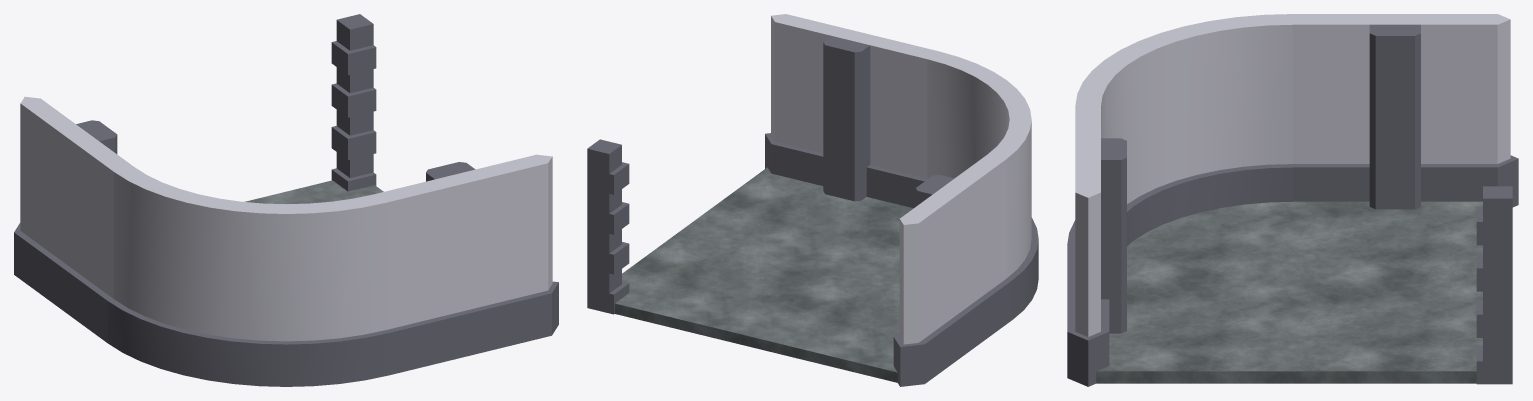
Rendered from corner_03.fbx.
3 views of the same model, side by side, from view 1: azimuth 30°, elevation 25°; view 2: azimuth 150°, elevation 25°; view 3: azimuth 270°, elevation 25° (orthographic). The views are drawn at different scales.
Visible parts, largest first — view 1: corner_03_9, wall_02_2, wall_02_3, wall_borderBricks_7, floor_03_8; view 2: floor_03_8, wall_02_2, wall_02_3, corner_03_9, wall_borderBricks_7; view 3: floor_03_8, wall_02_3, corner_03_9, wall_02_2, wall_borderBricks_7.
Boxes of the visible parts, box(x1,y1,x2,y2) form: corner_03_9: box(107, 165, 389, 386); wall_02_2: box(370, 154, 558, 374); wall_02_3: box(14, 96, 133, 342); wall_borderBricks_7: box(331, 14, 376, 191); floor_03_8: box(244, 180, 383, 204); floor_03_8: box(614, 167, 913, 382); wall_02_2: box(765, 14, 941, 208); wall_02_3: box(893, 152, 1012, 386); corner_03_9: box(923, 51, 1038, 319); wall_borderBricks_7: box(587, 139, 629, 314); floor_03_8: box(1096, 201, 1482, 383); wall_02_3: box(1280, 14, 1518, 209); corner_03_9: box(1067, 14, 1299, 245); wall_02_2: box(1067, 101, 1126, 386); wall_borderBricks_7: box(1476, 186, 1512, 384).
Size of the model in its own units: 22.05 by 10 by 22.05.
